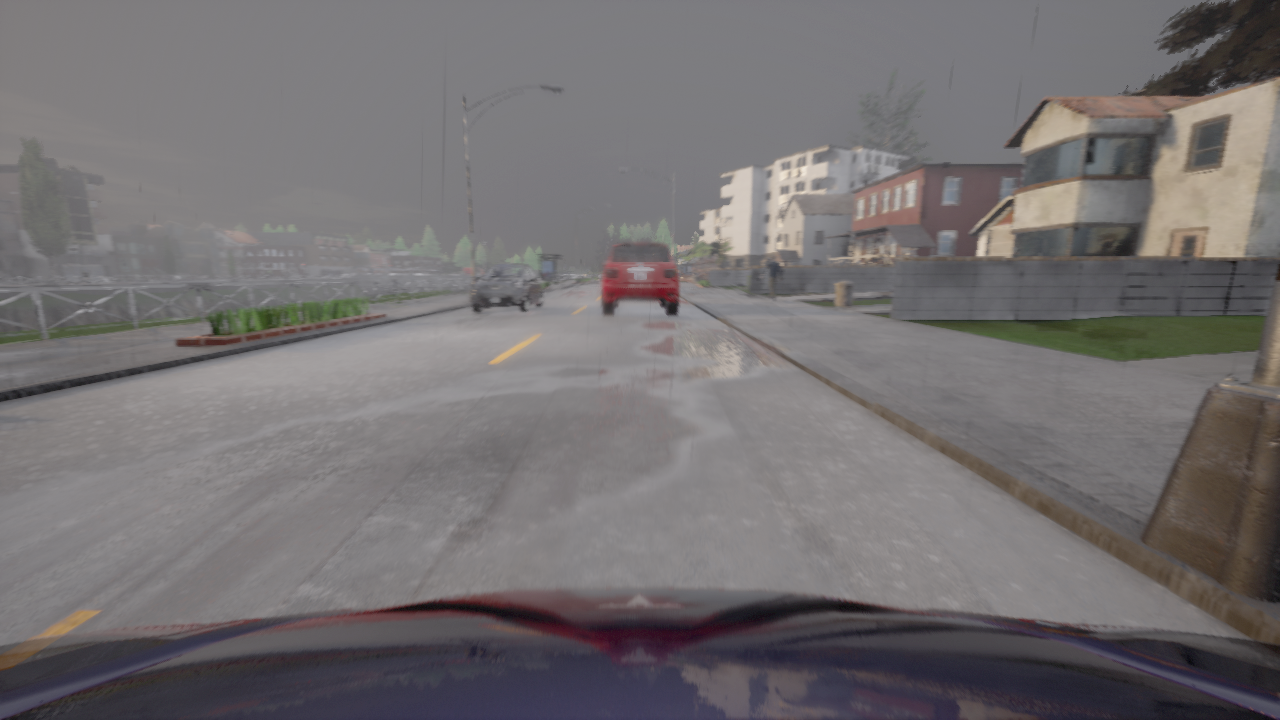cyclist: (0, 588, 1279, 719), (602, 242, 678, 315), (471, 264, 543, 312)
pedestrian: (761, 255, 781, 302)
